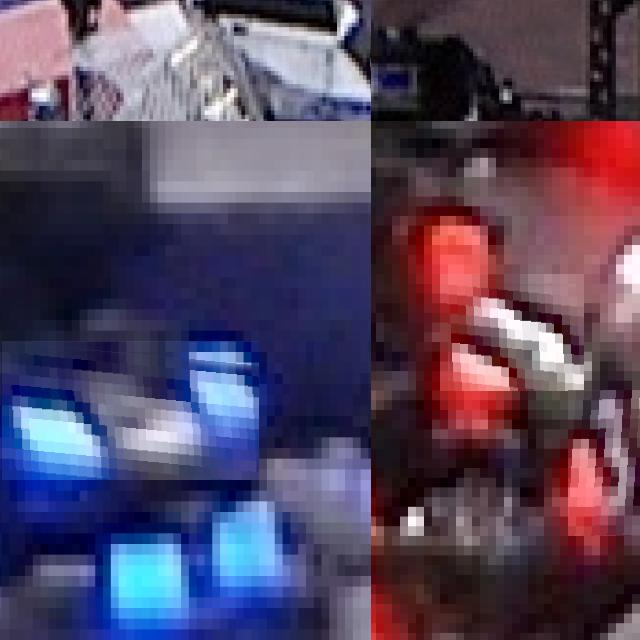B5: (2, 341, 259, 480)
R3: (440, 274, 584, 391), (568, 390, 640, 535)
